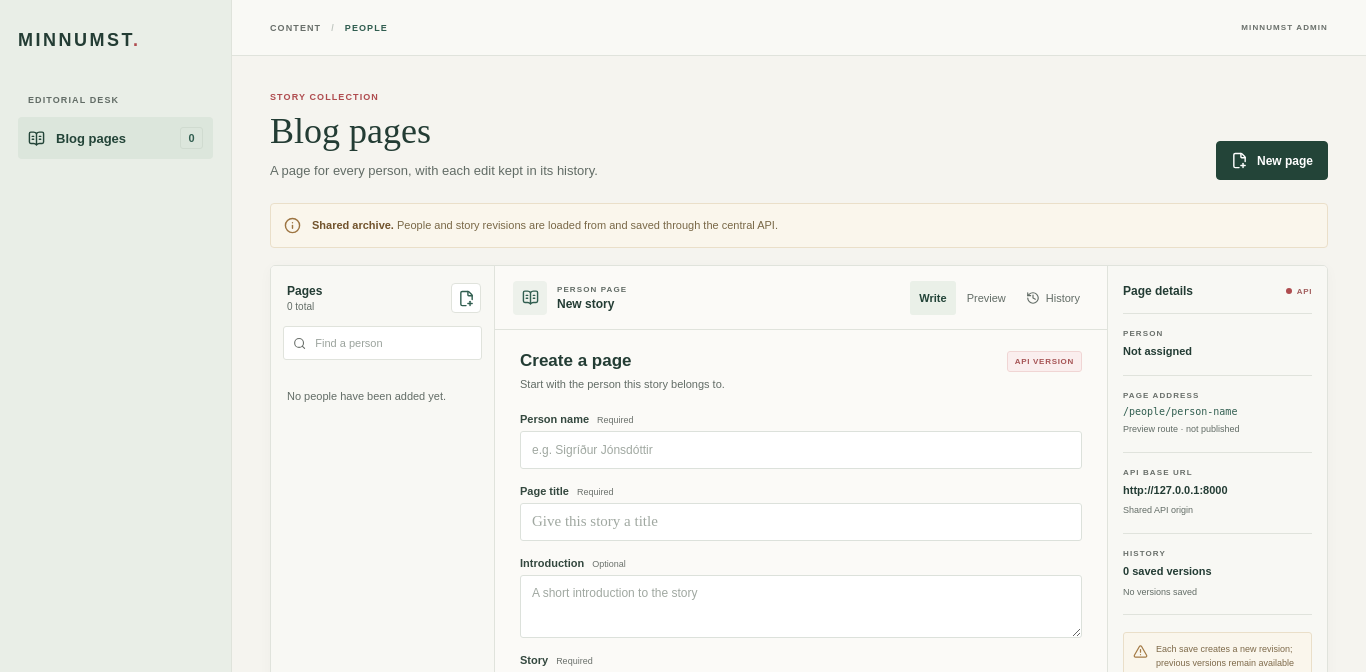
Test: blog page editor › describes a new page before it is saved
Check: the text "No people have been added yet." is shown, box x1=287 y1=390 x2=446 y2=402
Check: the text "New story" is shown, box x1=557 y1=297 x2=614 y2=311
Type "Ada" into the field labelled "Person name Required". click: (801, 450)
box: x1=520 y1=431 x2=1082 y2=469
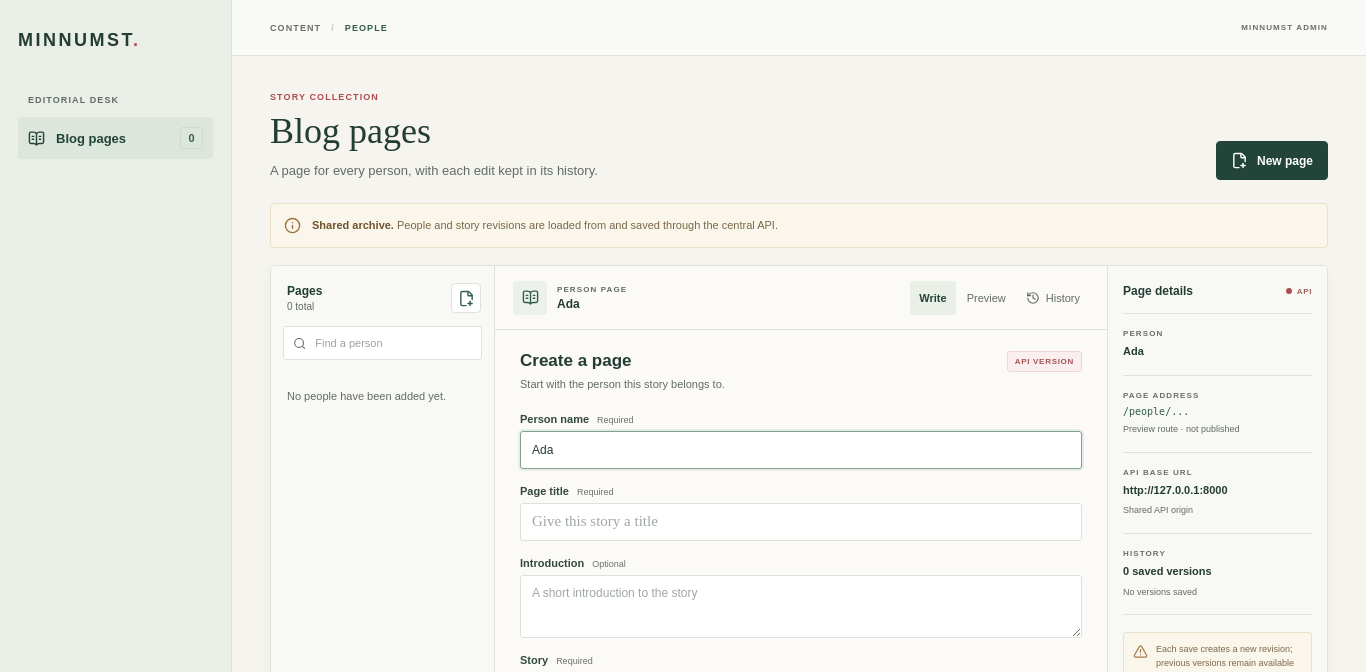
Check: the text "/people/..." is shown, box x1=1123 y1=406 x2=1189 y2=417
Check: the text "Ada" is shown 2 times, box x1=557 y1=297 x2=580 y2=311; x1=1123 y1=345 x2=1144 y2=357
Click the tab "Preview". click: (986, 298)
box: x1=958 y1=281 x2=1015 y2=315
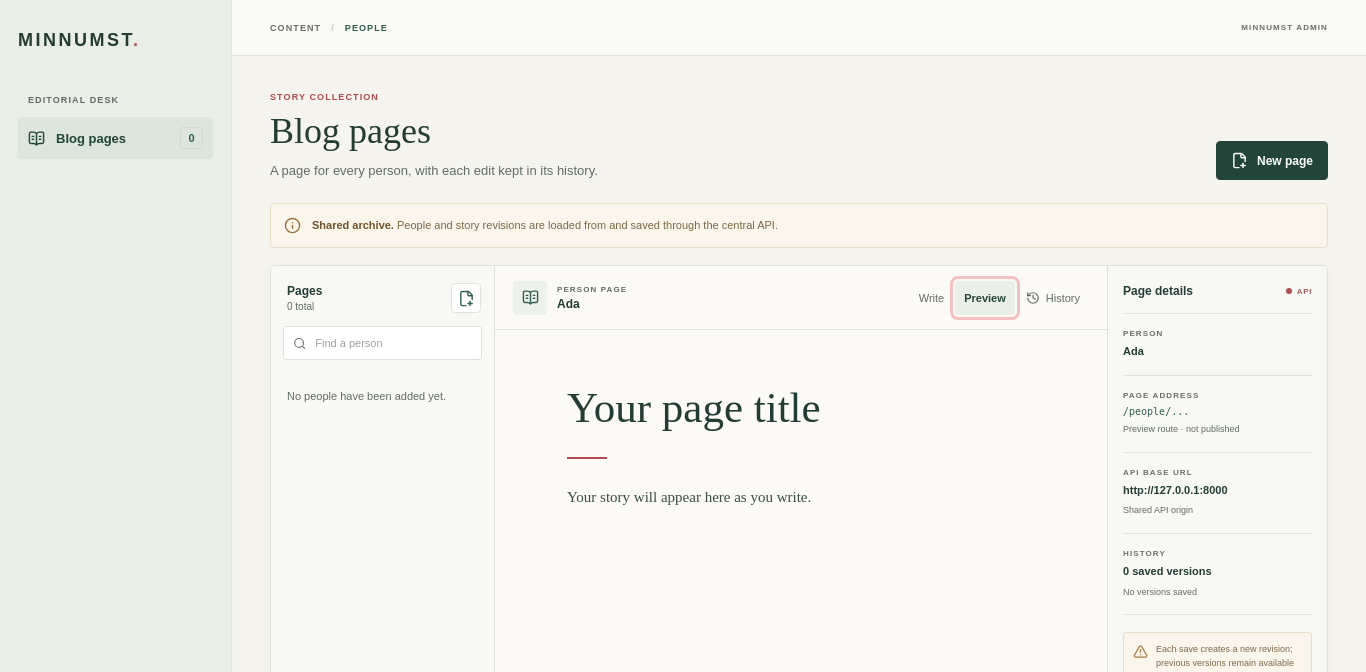
Check: the heading "Your page title" is shown, box x1=567 y1=384 x2=821 y2=431
Check: the text "Your story will appear here as you write." is shown, box x1=567 y1=489 x2=811 y2=505
Click the tab "History". click: (1053, 298)
box: x1=1017 y1=281 x2=1089 y2=315
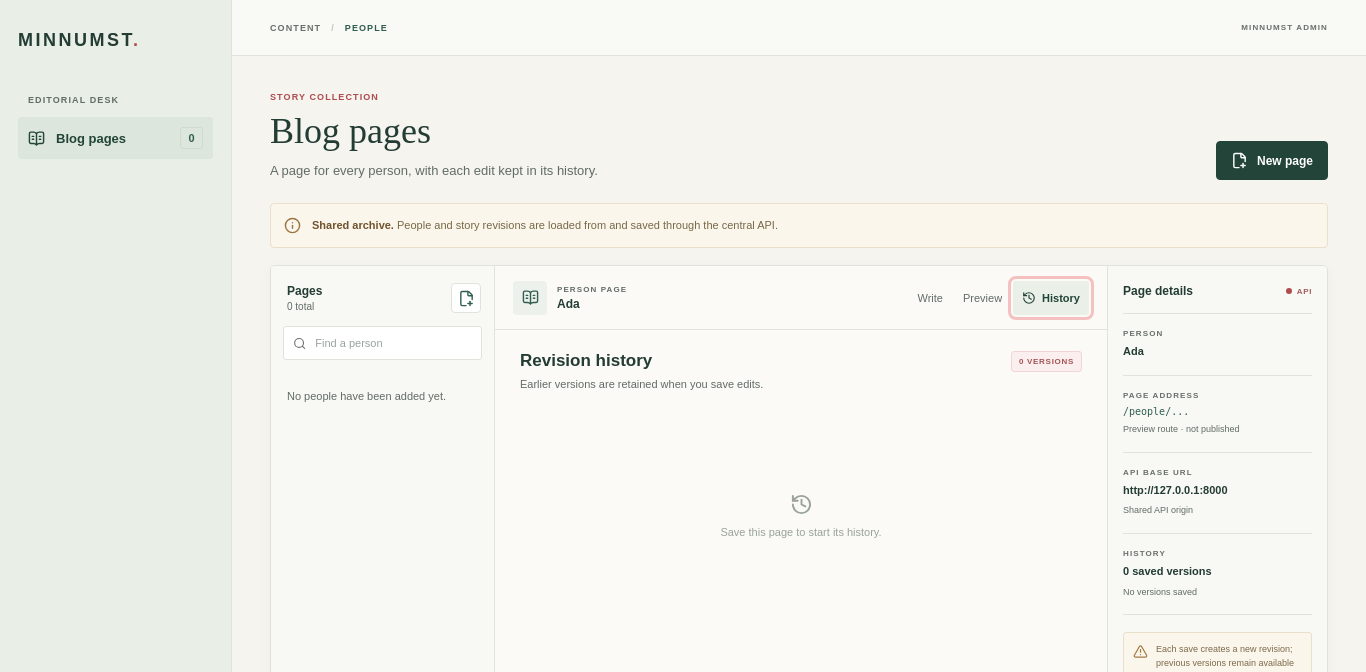
Check: the text "0 VERSIONS" is shown, box x1=1011 y1=351 x2=1082 y2=372
Check: the text "Save this page to start its history." is shown, box x1=720 y1=526 x2=882 y2=538
Click the tab "Write". click: (930, 298)
box: x1=908 y1=281 x2=952 y2=315
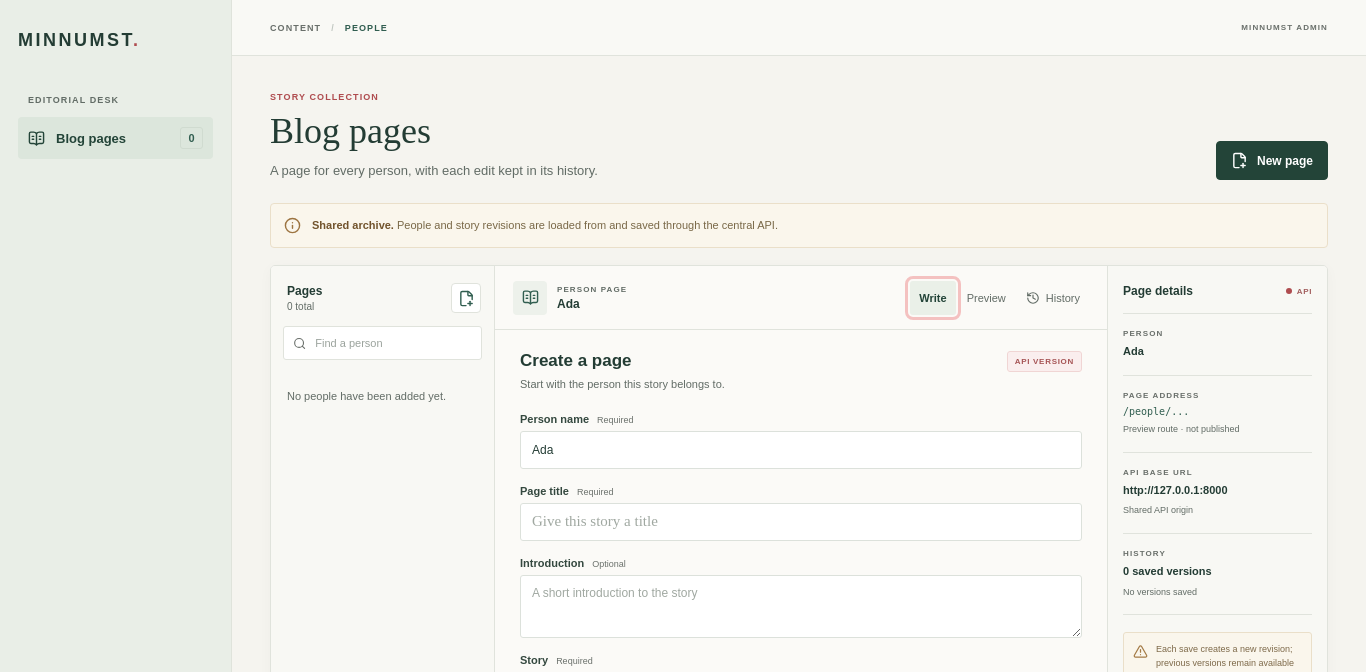
Check: the field labelled "Person name Required" holds "Ada", box x1=520 y1=431 x2=1082 y2=469
Type "Letters home" into the text box labelled "Introduction Optional". click: (801, 606)
box: x1=520 y1=575 x2=1082 y2=638
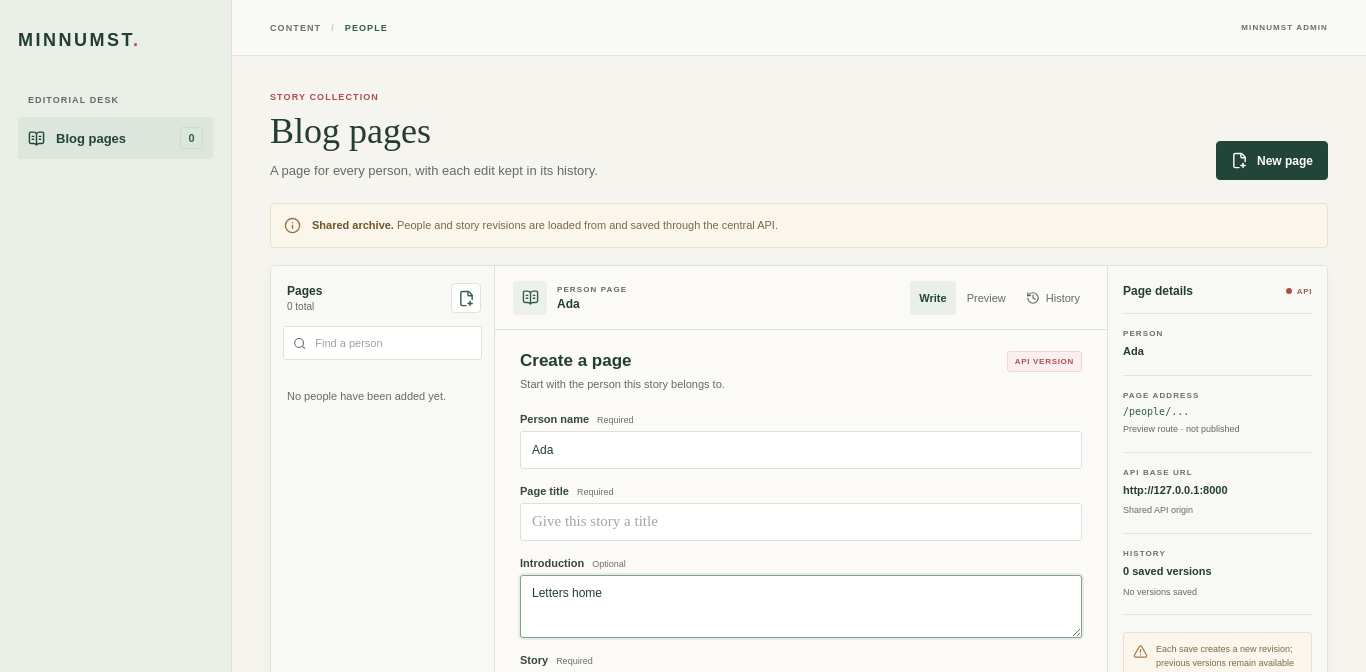
Click the tab "Preview". click: (986, 298)
box: x1=958 y1=281 x2=1015 y2=315
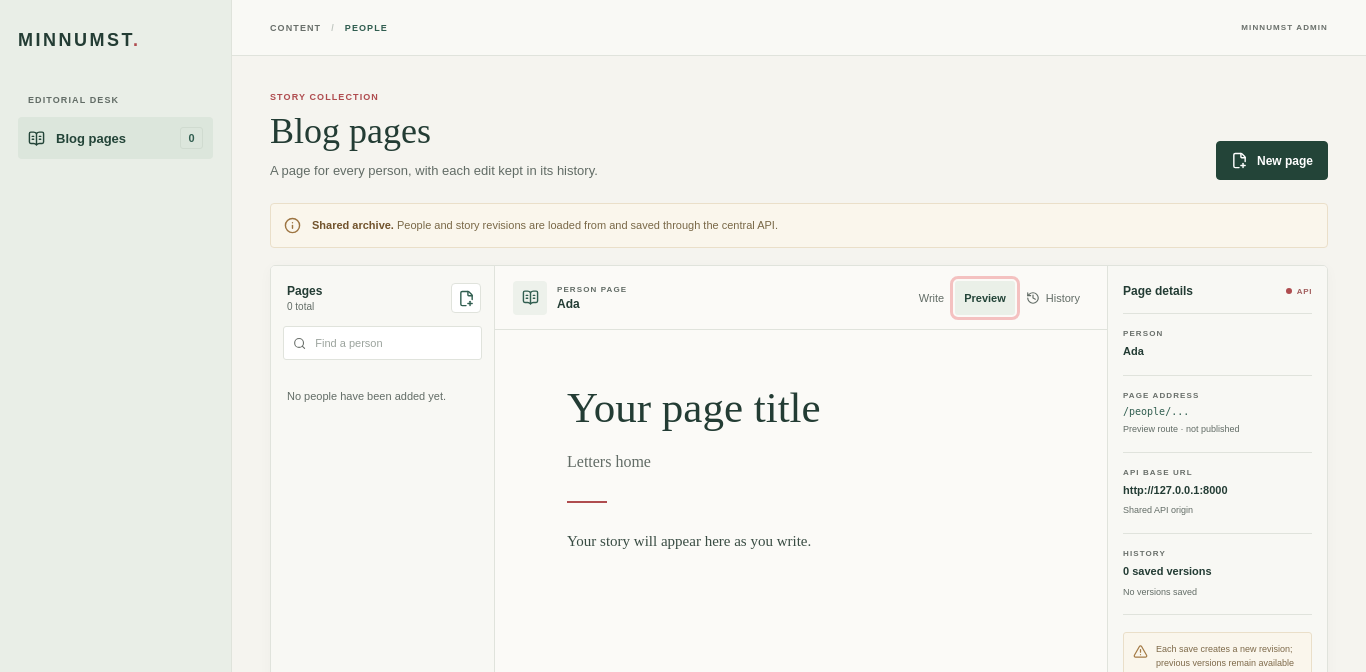
Check: the text "Letters home" is shown, box x1=567 y1=453 x2=651 y2=470
